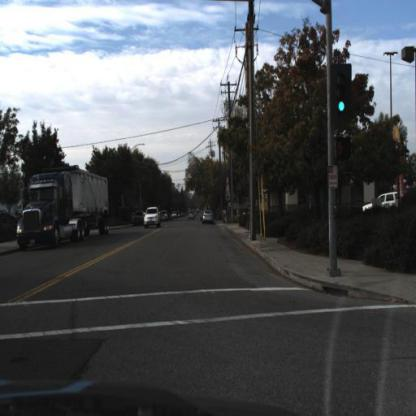car: (356, 188, 407, 226), (139, 202, 164, 235), (143, 204, 162, 230), (200, 209, 217, 229)
truck: (15, 168, 111, 252), (16, 161, 112, 241)
